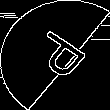P_SE: (19, 24, 91, 86)
